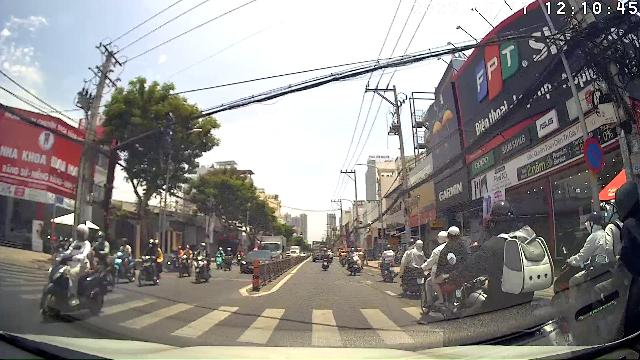131a-cam-do-xe: (583, 138, 605, 172)
